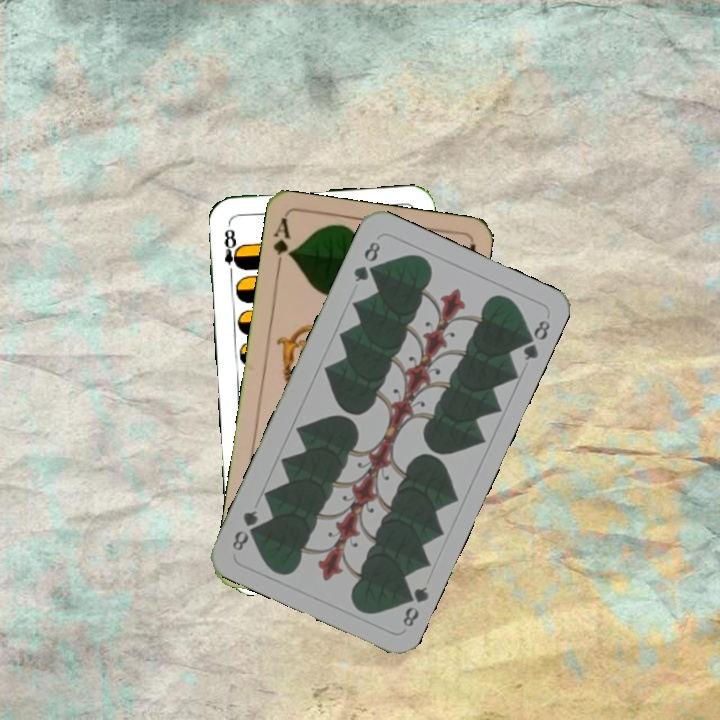E8: (219, 225, 244, 279)
G8: (349, 237, 383, 285), (398, 582, 432, 630)
GA: (269, 215, 295, 274)
